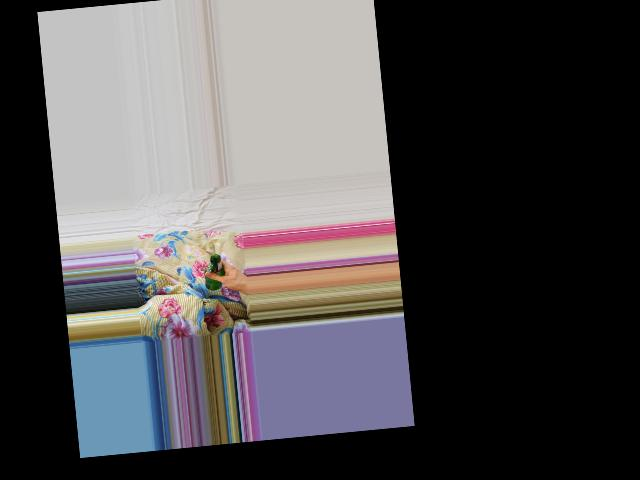beer: (203, 254, 227, 291)
